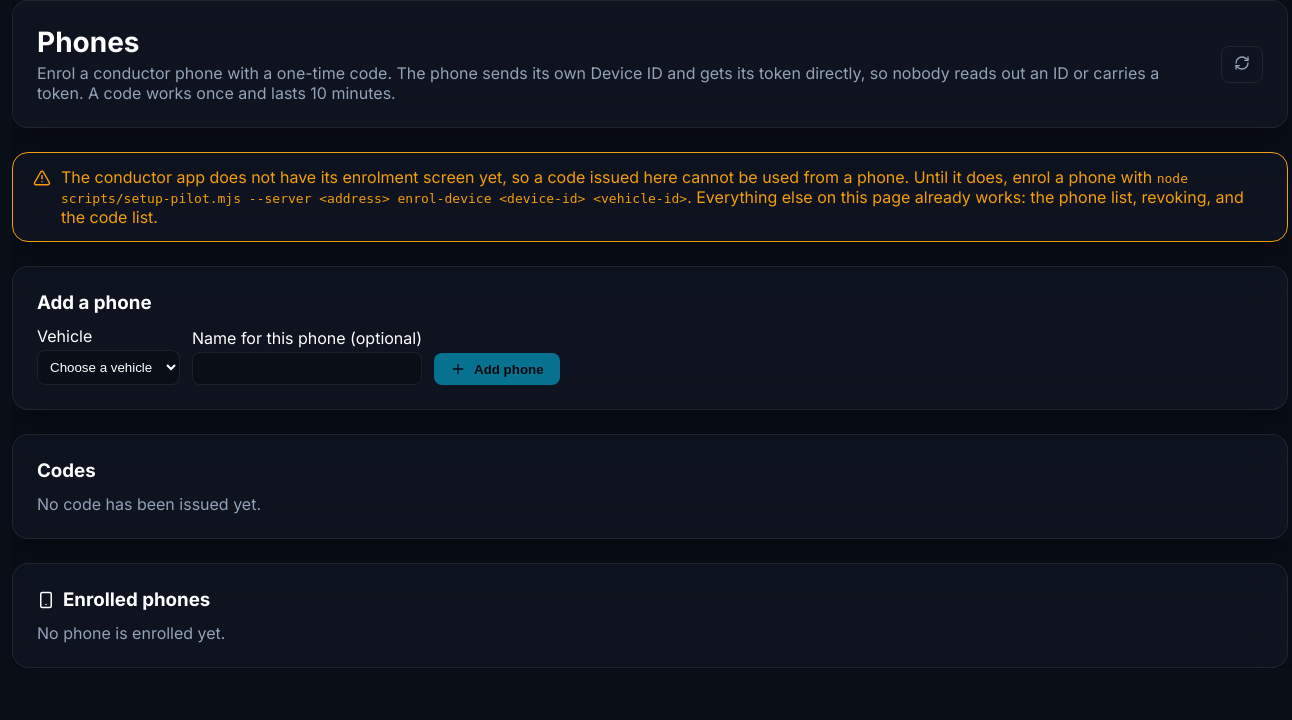
Test: Phones: issuing a code › shows the server's own message when the open-code limit is reached, and shows no code
Select "BUS-1 (AAA 111)" in the dropdown at (108, 368), box [37,350,180,385]
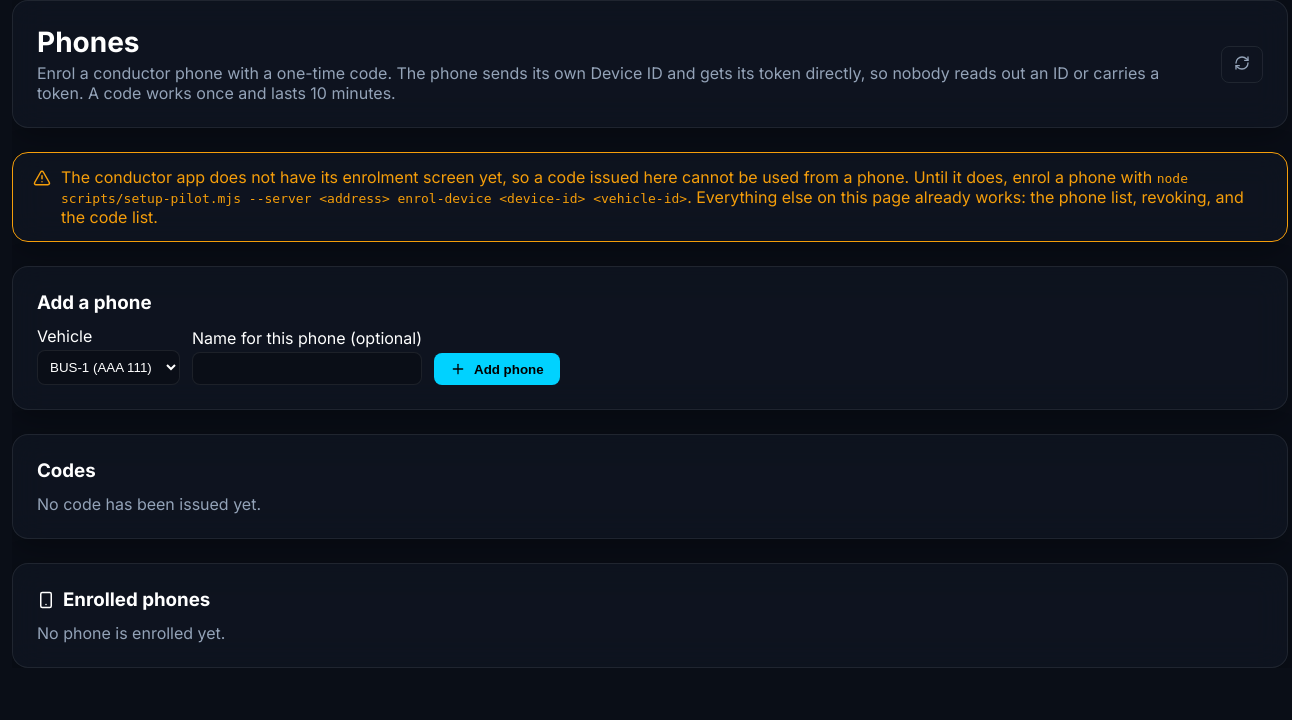
Click the button "Add phone" at (497, 369), box [434,353,560,385]
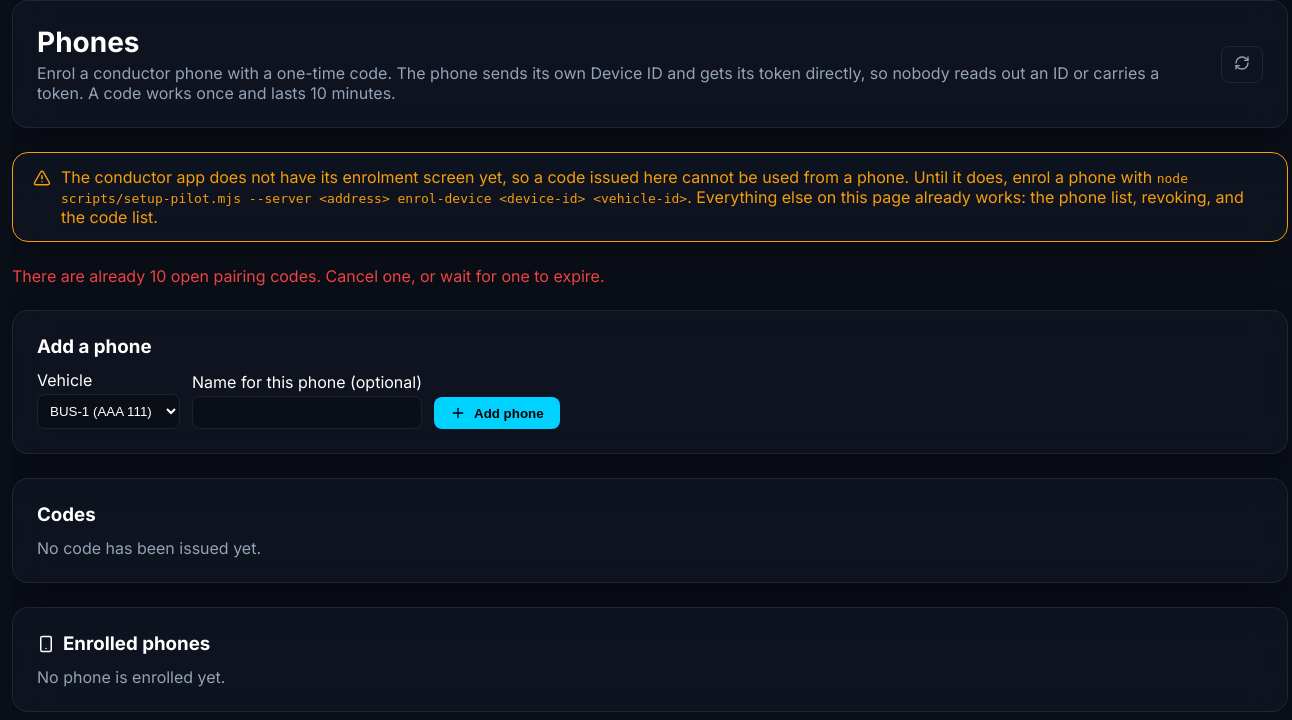
Expected: the message shows "already 10 open pairing codes", [12,266,604,286]
